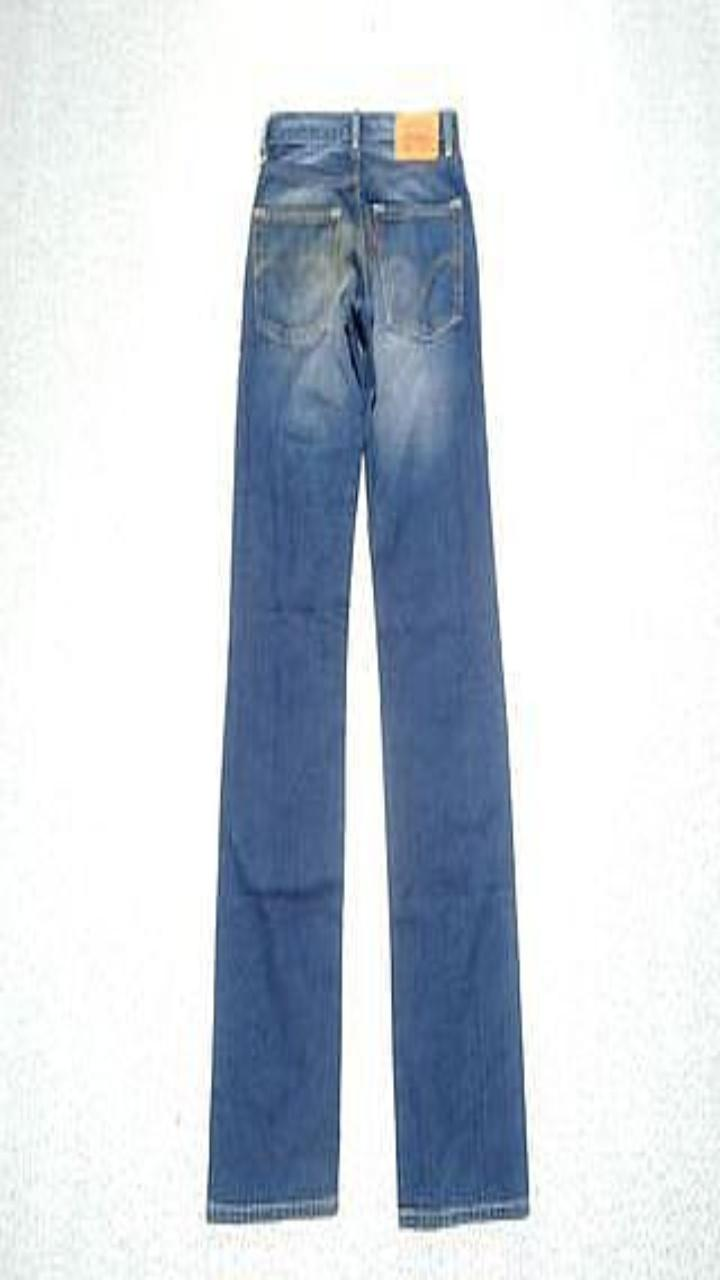Jeans: (206, 109, 528, 1226)
